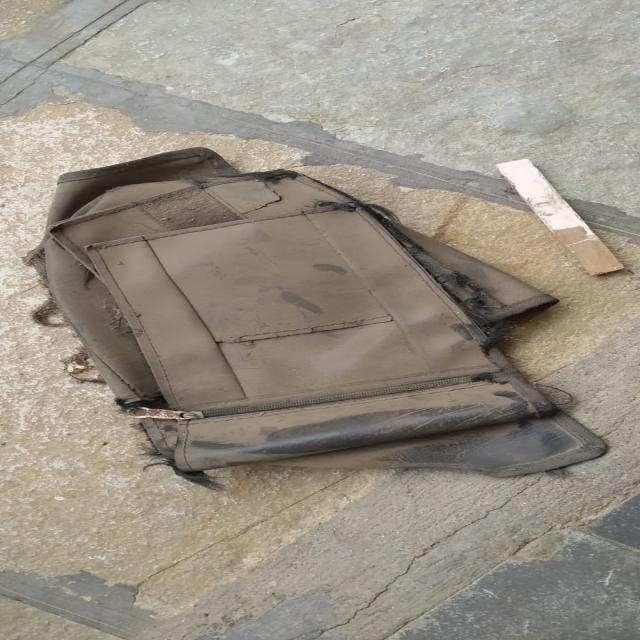metal: (461, 161, 640, 277)
